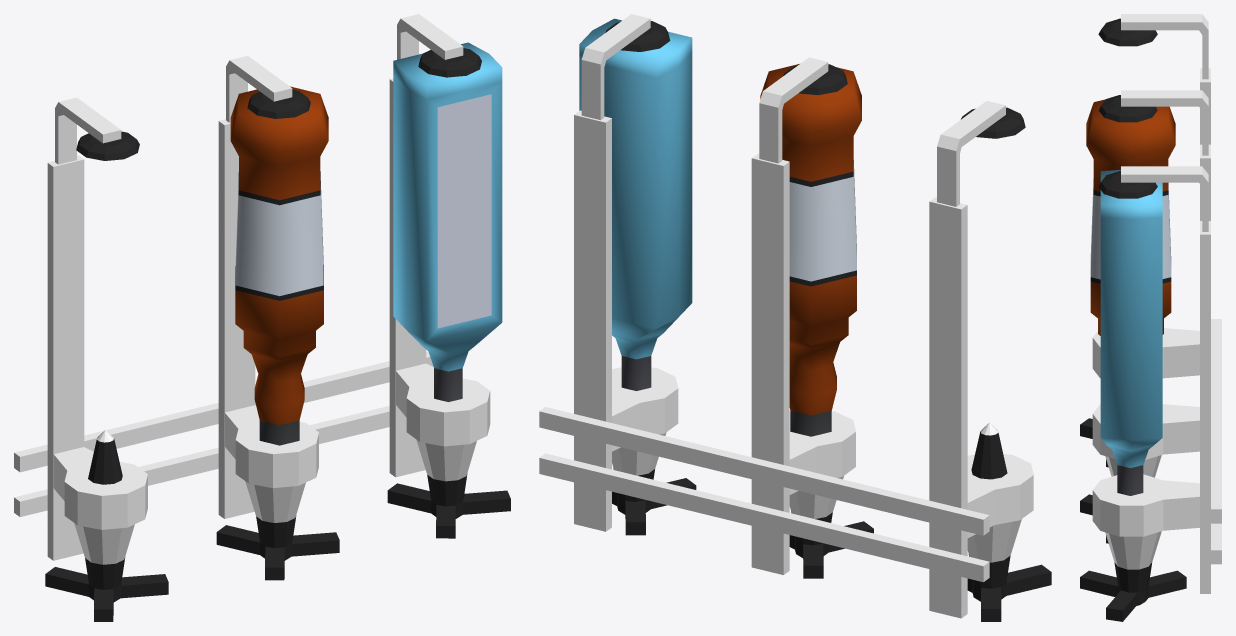
File: Bar-SpiritDispenser_01.fbx
3 renders of one model, left to right at view 1: azimuth 30°, elevation 25°; view 2: azimuth 150°, elevation 25°; view 3: azimuth 270°, elevation 25°, orthographic. The views are drawn at different scales.
Visible parts, largest first — view 1: SquareBottle, EmptyRack, Bottle, Rack_2, Rack, SpiritDispenser; view 2: EmptyRack, SquareBottle, Rack, Rack_2, Bottle, SpiritDispenser; view 3: SquareBottle, Rack, Bottle, Rack_2, EmptyRack, SpiritDispenser.
Part boxes in pixels (x1,y1,x2,y2): SquareBottle: (393,42,502,401); EmptyRack: (45,97,168,621); Bottle: (230,86,328,445); Rack_2: (216,56,339,580); Rack: (387,14,510,538); SpiritDispenser: (14,351,433,516); EmptyRack: (929,101,1051,621); SquareBottle: (579,18,692,390); Rack: (574,14,696,535); Rack_2: (751,57,873,578); Bottle: (760,64,861,436); SpiritDispenser: (539,407,989,582); SquareBottle: (1100,170,1162,495); Rack: (1080,166,1210,621); Bottle: (1086,99,1175,335); Rack_2: (1080,90,1210,543); EmptyRack: (1080,14,1210,467); SpiritDispenser: (1211,319,1221,564).
Size of the model in its own units: 0.5132 by 0.5291 by 0.1572.
